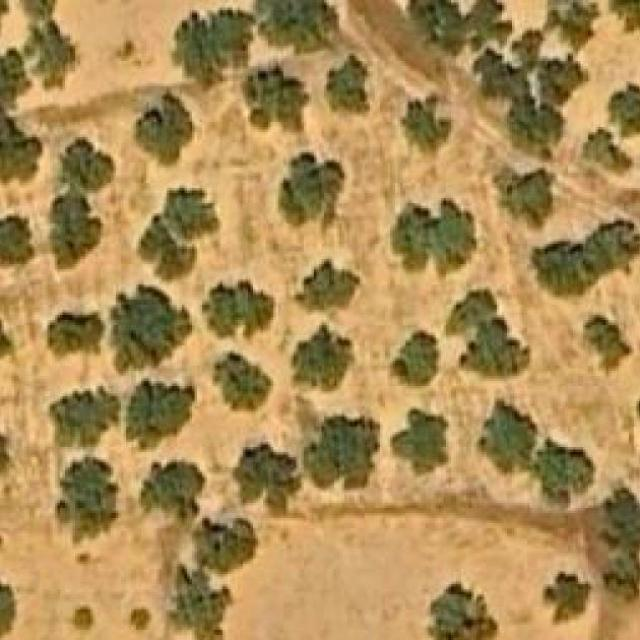Tree: (530, 221, 640, 306), (385, 196, 476, 277), (446, 289, 530, 376), (111, 281, 192, 369), (408, 0, 513, 56), (253, 0, 362, 53), (55, 454, 119, 544), (304, 417, 380, 492), (175, 8, 249, 82), (14, 0, 75, 89), (480, 399, 546, 478), (126, 379, 195, 450), (236, 445, 302, 516), (170, 567, 234, 640), (243, 63, 309, 132), (133, 90, 192, 166), (141, 460, 205, 526), (292, 323, 356, 389), (603, 488, 640, 602), (50, 386, 121, 445), (536, 442, 596, 509), (49, 193, 102, 268), (278, 152, 329, 228), (294, 261, 359, 320), (202, 282, 273, 336), (192, 511, 264, 563), (494, 168, 556, 228), (393, 410, 449, 476), (428, 586, 496, 640), (510, 104, 566, 164), (216, 350, 272, 410), (581, 315, 632, 376), (58, 140, 113, 193), (0, 117, 42, 185), (139, 227, 190, 280), (166, 183, 216, 237), (477, 44, 528, 96), (402, 96, 451, 150), (52, 308, 104, 358), (542, 572, 592, 623), (393, 330, 439, 384), (327, 56, 368, 112), (0, 211, 37, 268), (583, 130, 632, 171), (550, 3, 598, 44), (608, 84, 640, 140), (0, 574, 21, 640), (603, 0, 639, 30), (67, 607, 96, 633), (129, 607, 152, 633)
